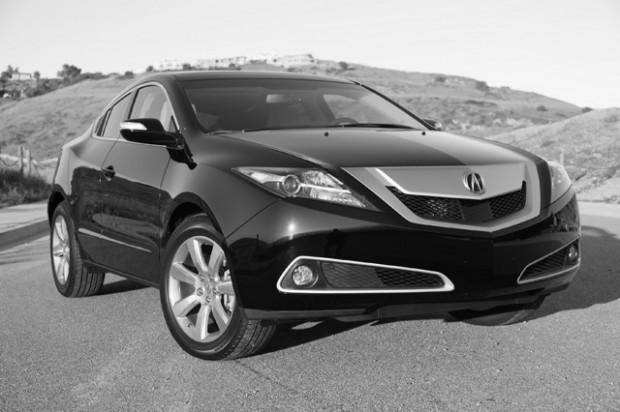car: (46, 69, 583, 363)
